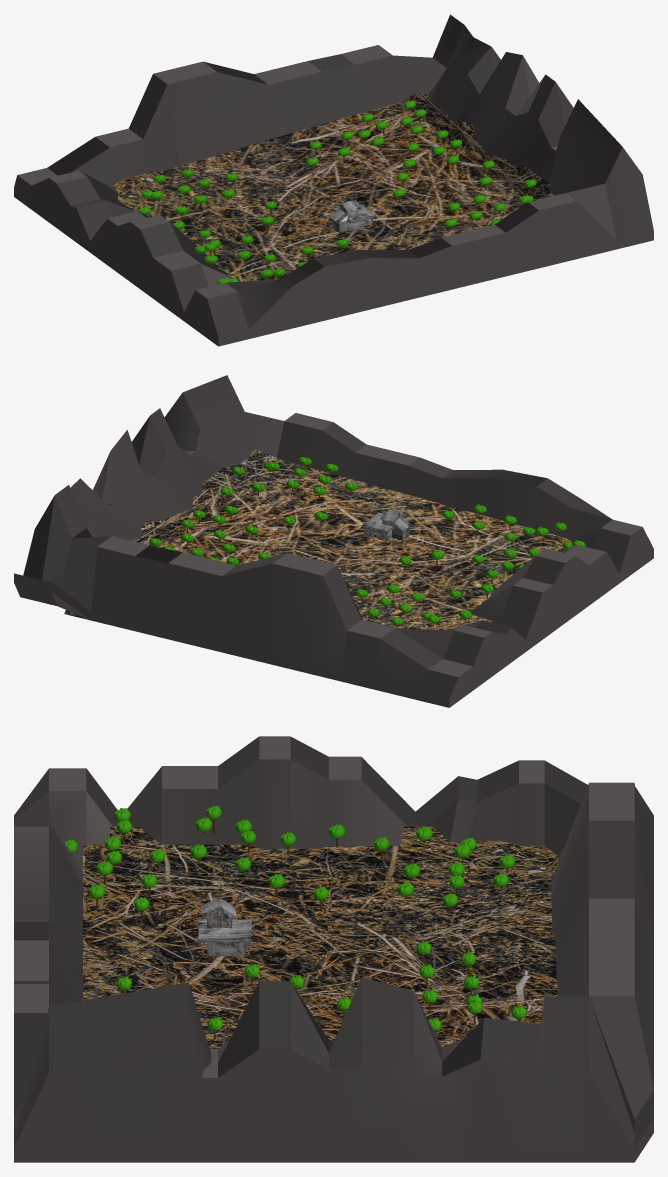
File: horror_map.glb
3 renders of one model, top to bottom at view 1: azimuth 30°, elevation 25°; view 2: azimuth 150°, elevation 25°; view 3: azimuth 270°, elevation 25°, orthographic. The views are drawn at different scales.
Visible parts, largest first — view 1: Object_9, Object_4, Object_11, Object_10, Object_12; view 2: Object_9, Object_4, Object_11, Object_12, Object_10; view 3: Object_9, Object_4, Object_12, Object_11, Object_10, Object_5.
Boxes of the visible parts, <box> form: Object_9: <box>14,14,653,346</box>; Object_4: <box>110,91,554,281</box>; Object_11: <box>175,109,505,251</box>; Object_10: <box>137,100,533,284</box>; Object_12: <box>141,169,536,282</box>; Object_9: <box>14,375,653,707</box>; Object_4: <box>64,449,570,630</box>; Object_11: <box>149,468,539,598</box>; Object_12: <box>232,461,572,625</box>; Object_10: <box>163,457,585,620</box>; Object_9: <box>14,736,653,1162</box>; Object_4: <box>83,826,558,1049</box>; Object_12: <box>88,817,514,911</box>; Object_11: <box>206,805,526,1031</box>; Object_10: <box>64,808,481,1031</box>; Object_5: <box>198,919,251,942</box>.
Bounding box in the file's own units: 104 × 28.17 × 84.34.
12 materials, 7 textured.
